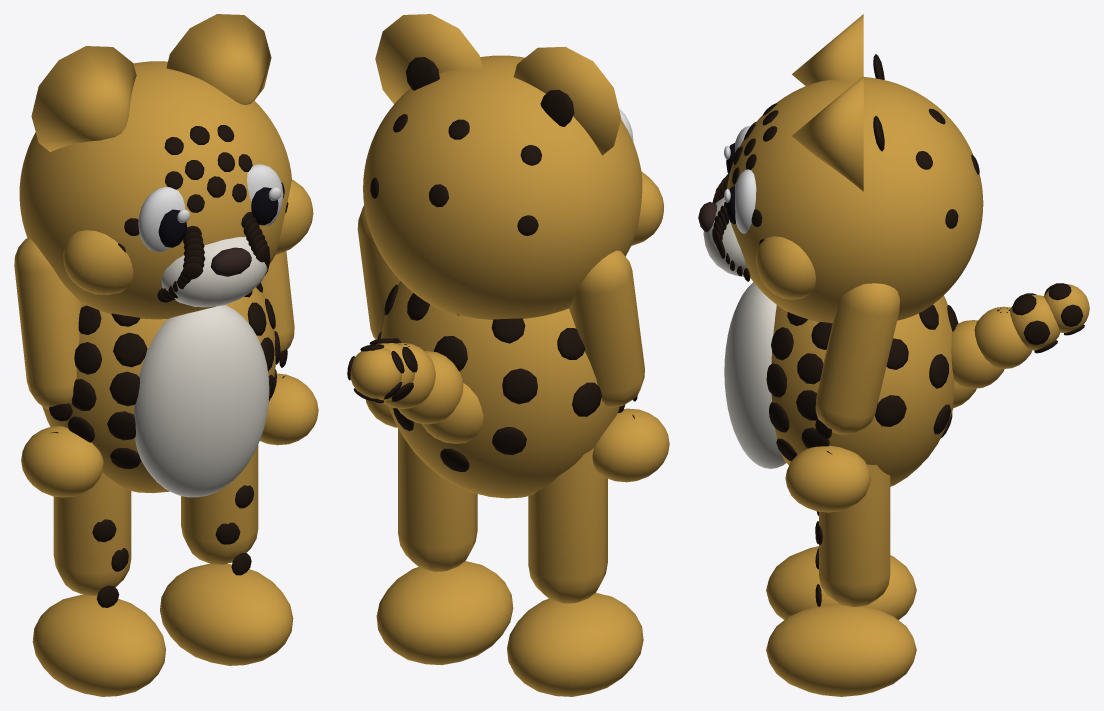
The model's file is cheetah.glb.
The picture shows the model from 3 angles, left to right: view 1: azimuth 30°, elevation 25°; view 2: azimuth 150°, elevation 25°; view 3: azimuth 270°, elevation 25°; orthographic projection. The views are drawn at different scales.
Parts seen in each view (by area): view 1: cheetah; view 2: cheetah; view 3: cheetah.
Boxes of the visible parts, x1,y1,x2,y2 form: cheetah: (14,14,318,696); cheetah: (347,14,669,696); cheetah: (698,14,1089,696).
Size of the model in its own units: 0.5416 by 1.15 by 0.6698.
